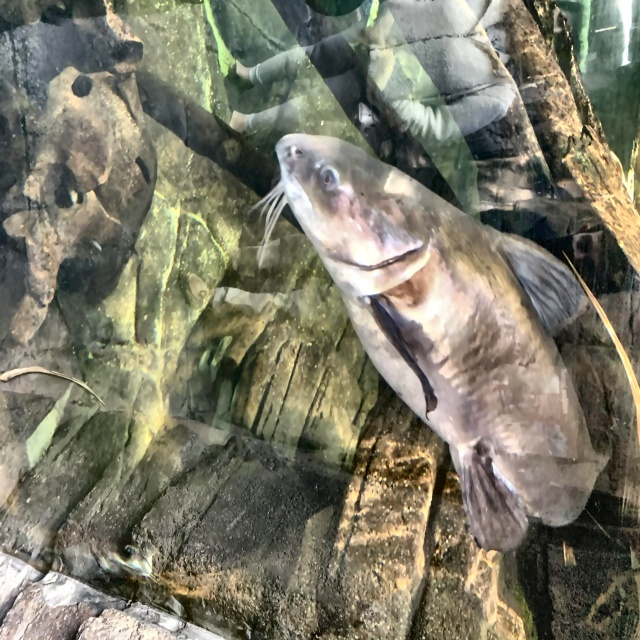fish: (276, 133, 613, 561)
